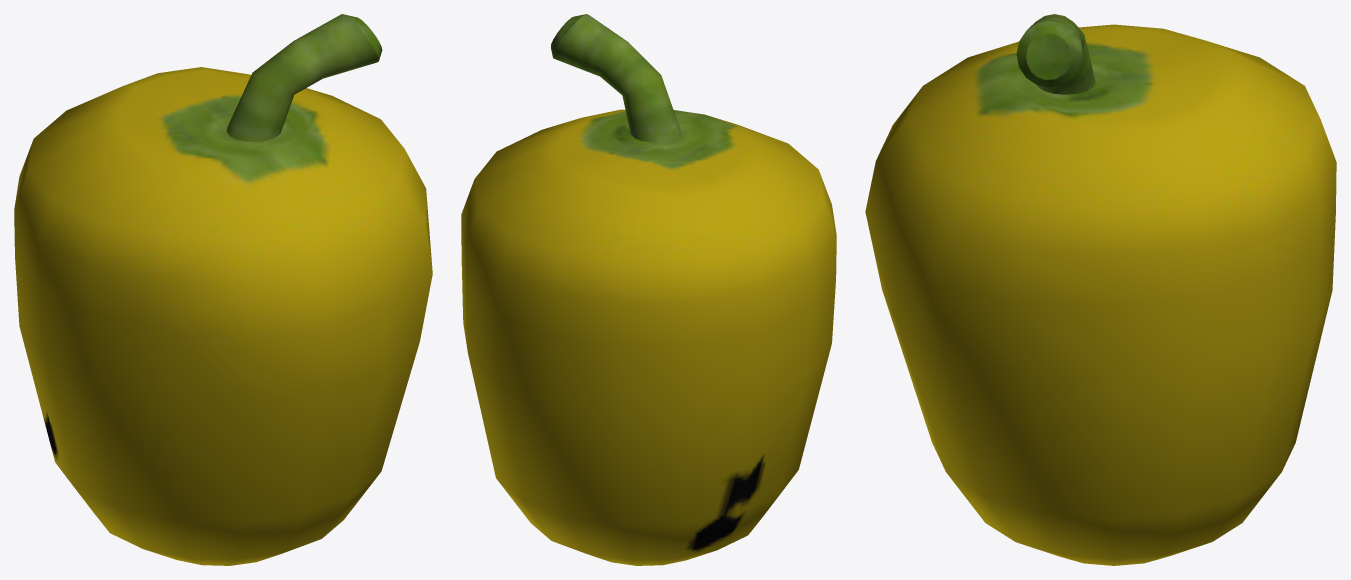
File: SM_配餐室_水果蔬菜_27.fbx
3 renders of one model, left to right at view 1: azimuth 30°, elevation 25°; view 2: azimuth 150°, elevation 25°; view 3: azimuth 270°, elevation 25°, orthographic. The views are drawn at different scales.
Parts seen in each view (by area): view 1: SM_配餐室_水果蔬菜_27; view 2: SM_配餐室_水果蔬菜_27; view 3: SM_配餐室_水果蔬菜_27.
Boxes of the visible parts, <box> form: SM_配餐室_水果蔬菜_27: <box>14,14,432,565</box>; SM_配餐室_水果蔬菜_27: <box>461,14,836,565</box>; SM_配餐室_水果蔬菜_27: <box>865,14,1336,565</box>.
Bounding box in the file's own units: 102 × 143 × 108.
